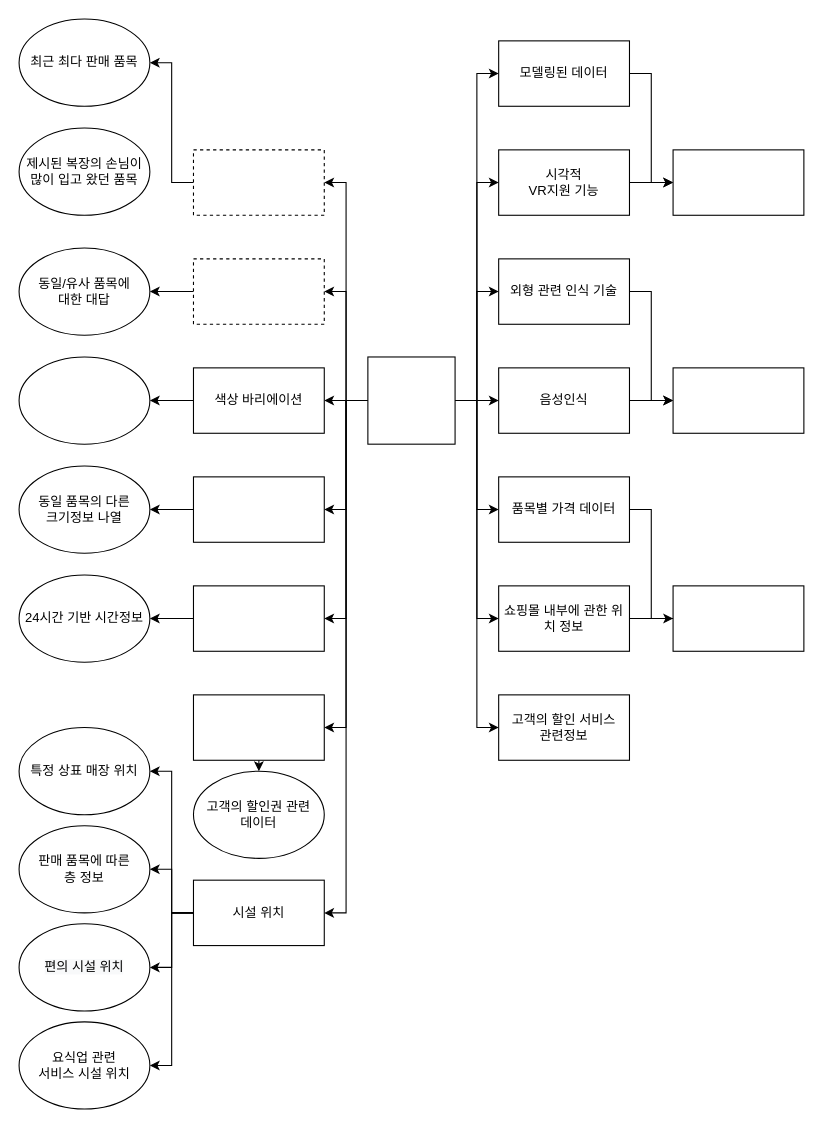
Image size: 823x1128. Some labels were removed from this diagram. The centre of each missing label's shape, as x and y in pixels:
"AI휴먼 지원 기능" goes at (x=738, y=400).
"고정된 정보" goes at (x=738, y=618).
"동일 품목의 다른 색상정보 나열" goes at (x=84, y=400).
"사이즈 바리에이션" goes at (x=258, y=509).
"상품의 가격비교" goes at (x=258, y=291).
"쇼핑몰 버추얼 키오스크" goes at (x=411, y=400).
"유니티 지원 VR기능" goes at (x=738, y=182).
"지금 시간" goes at (x=258, y=618).
"추천 요구" goes at (x=258, y=182).
"할인가능 여부" goes at (x=258, y=727).
